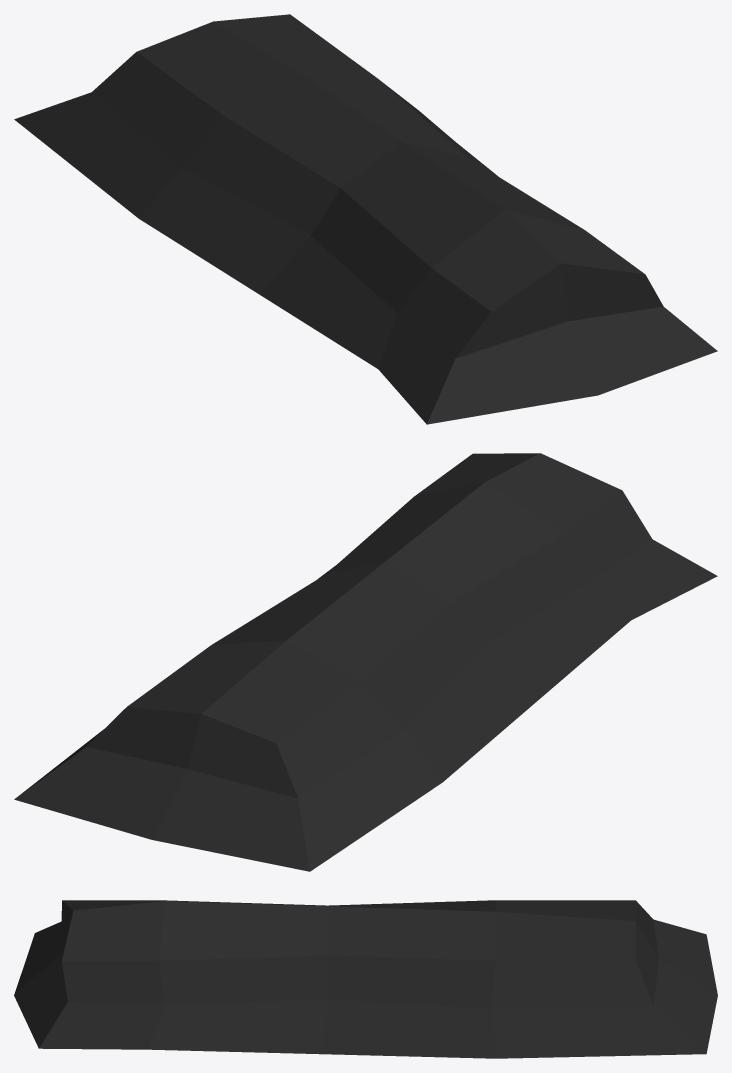
File: body-bag.glb
3 renders of one model, top to bottom at view 1: azimuth 30°, elevation 25°; view 2: azimuth 150°, elevation 25°; view 3: azimuth 270°, elevation 25°, orthographic. The views are drawn at different scales.
Visible parts, largest first — view 1: body-bag; view 2: body-bag; view 3: body-bag.
Boxes of the visible parts, x1,y1,x2,y2 form: body-bag: [14, 14, 717, 424]; body-bag: [14, 453, 717, 871]; body-bag: [14, 900, 717, 1058].
Bounding box in the file's own units: 1.03 × 0.4092 × 2.45.
1 material, 1 textured.
